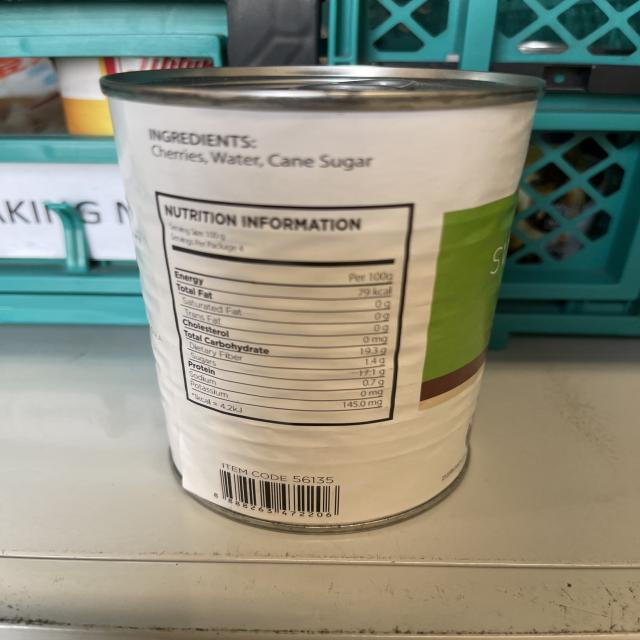object_name: (107, 71, 499, 528)
